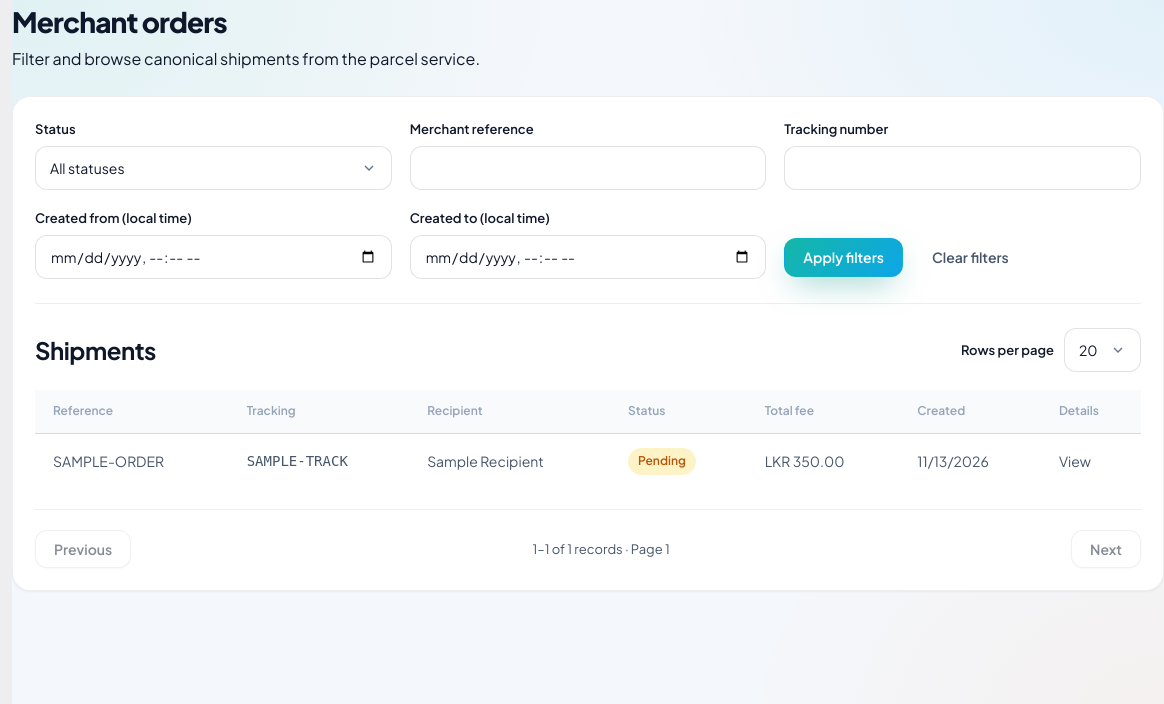
Scenario: delegates pagination and filters to the service
Expected: the text "SAMPLE-ORDER" is shown, x1=35 y1=434 x2=229 y2=489
Select "DELIVERED" in the dropdown labelled "Status" at (213, 168), box x1=35 y1=146 x2=392 y2=190
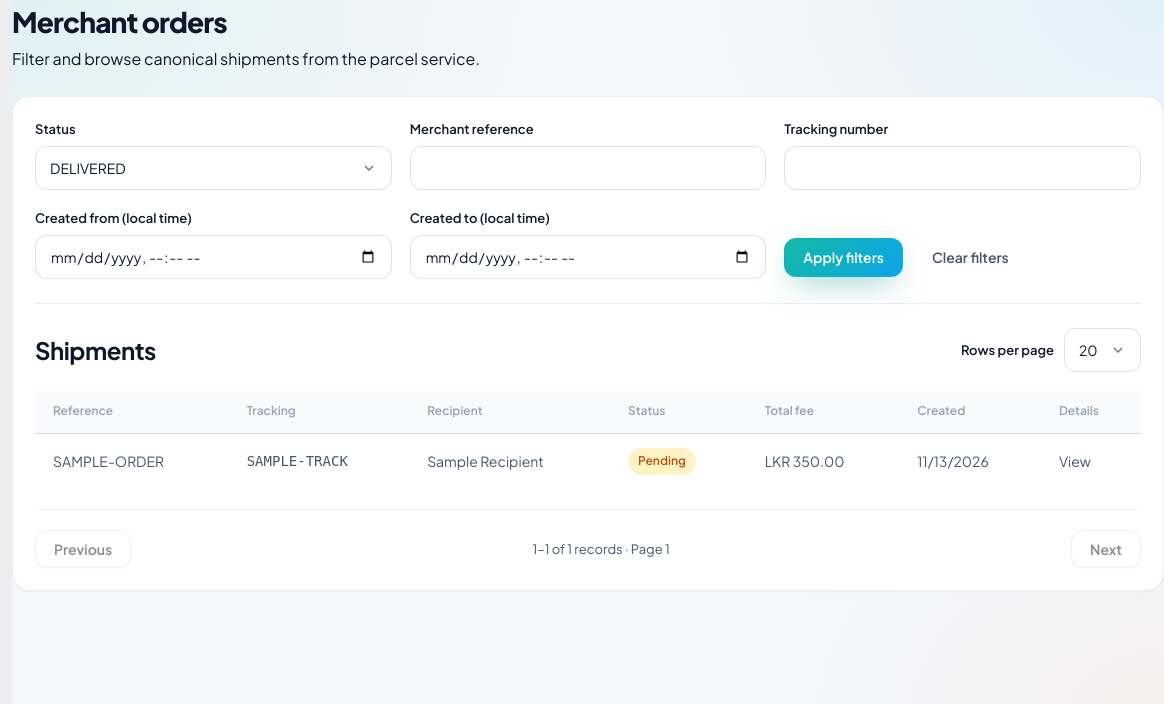
Click the button "Apply filters" at (844, 258), box x1=784 y1=238 x2=903 y2=277
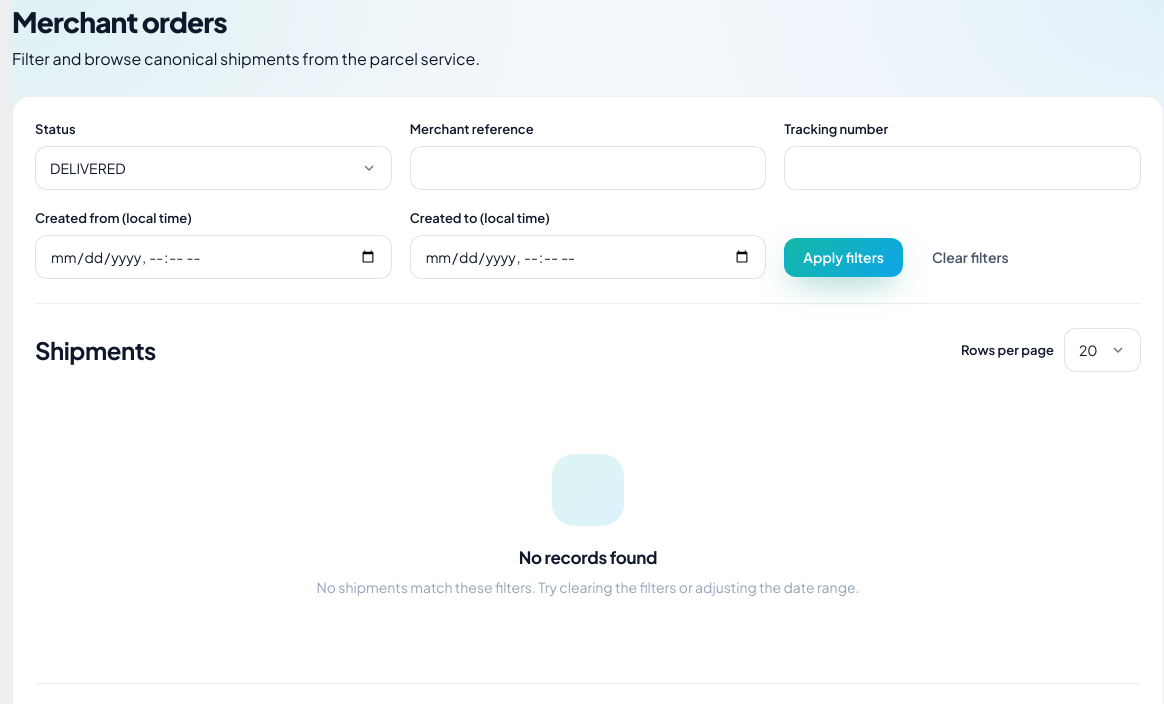
Expected: the heading "No records found" is shown, x1=519 y1=546 x2=657 y2=568
